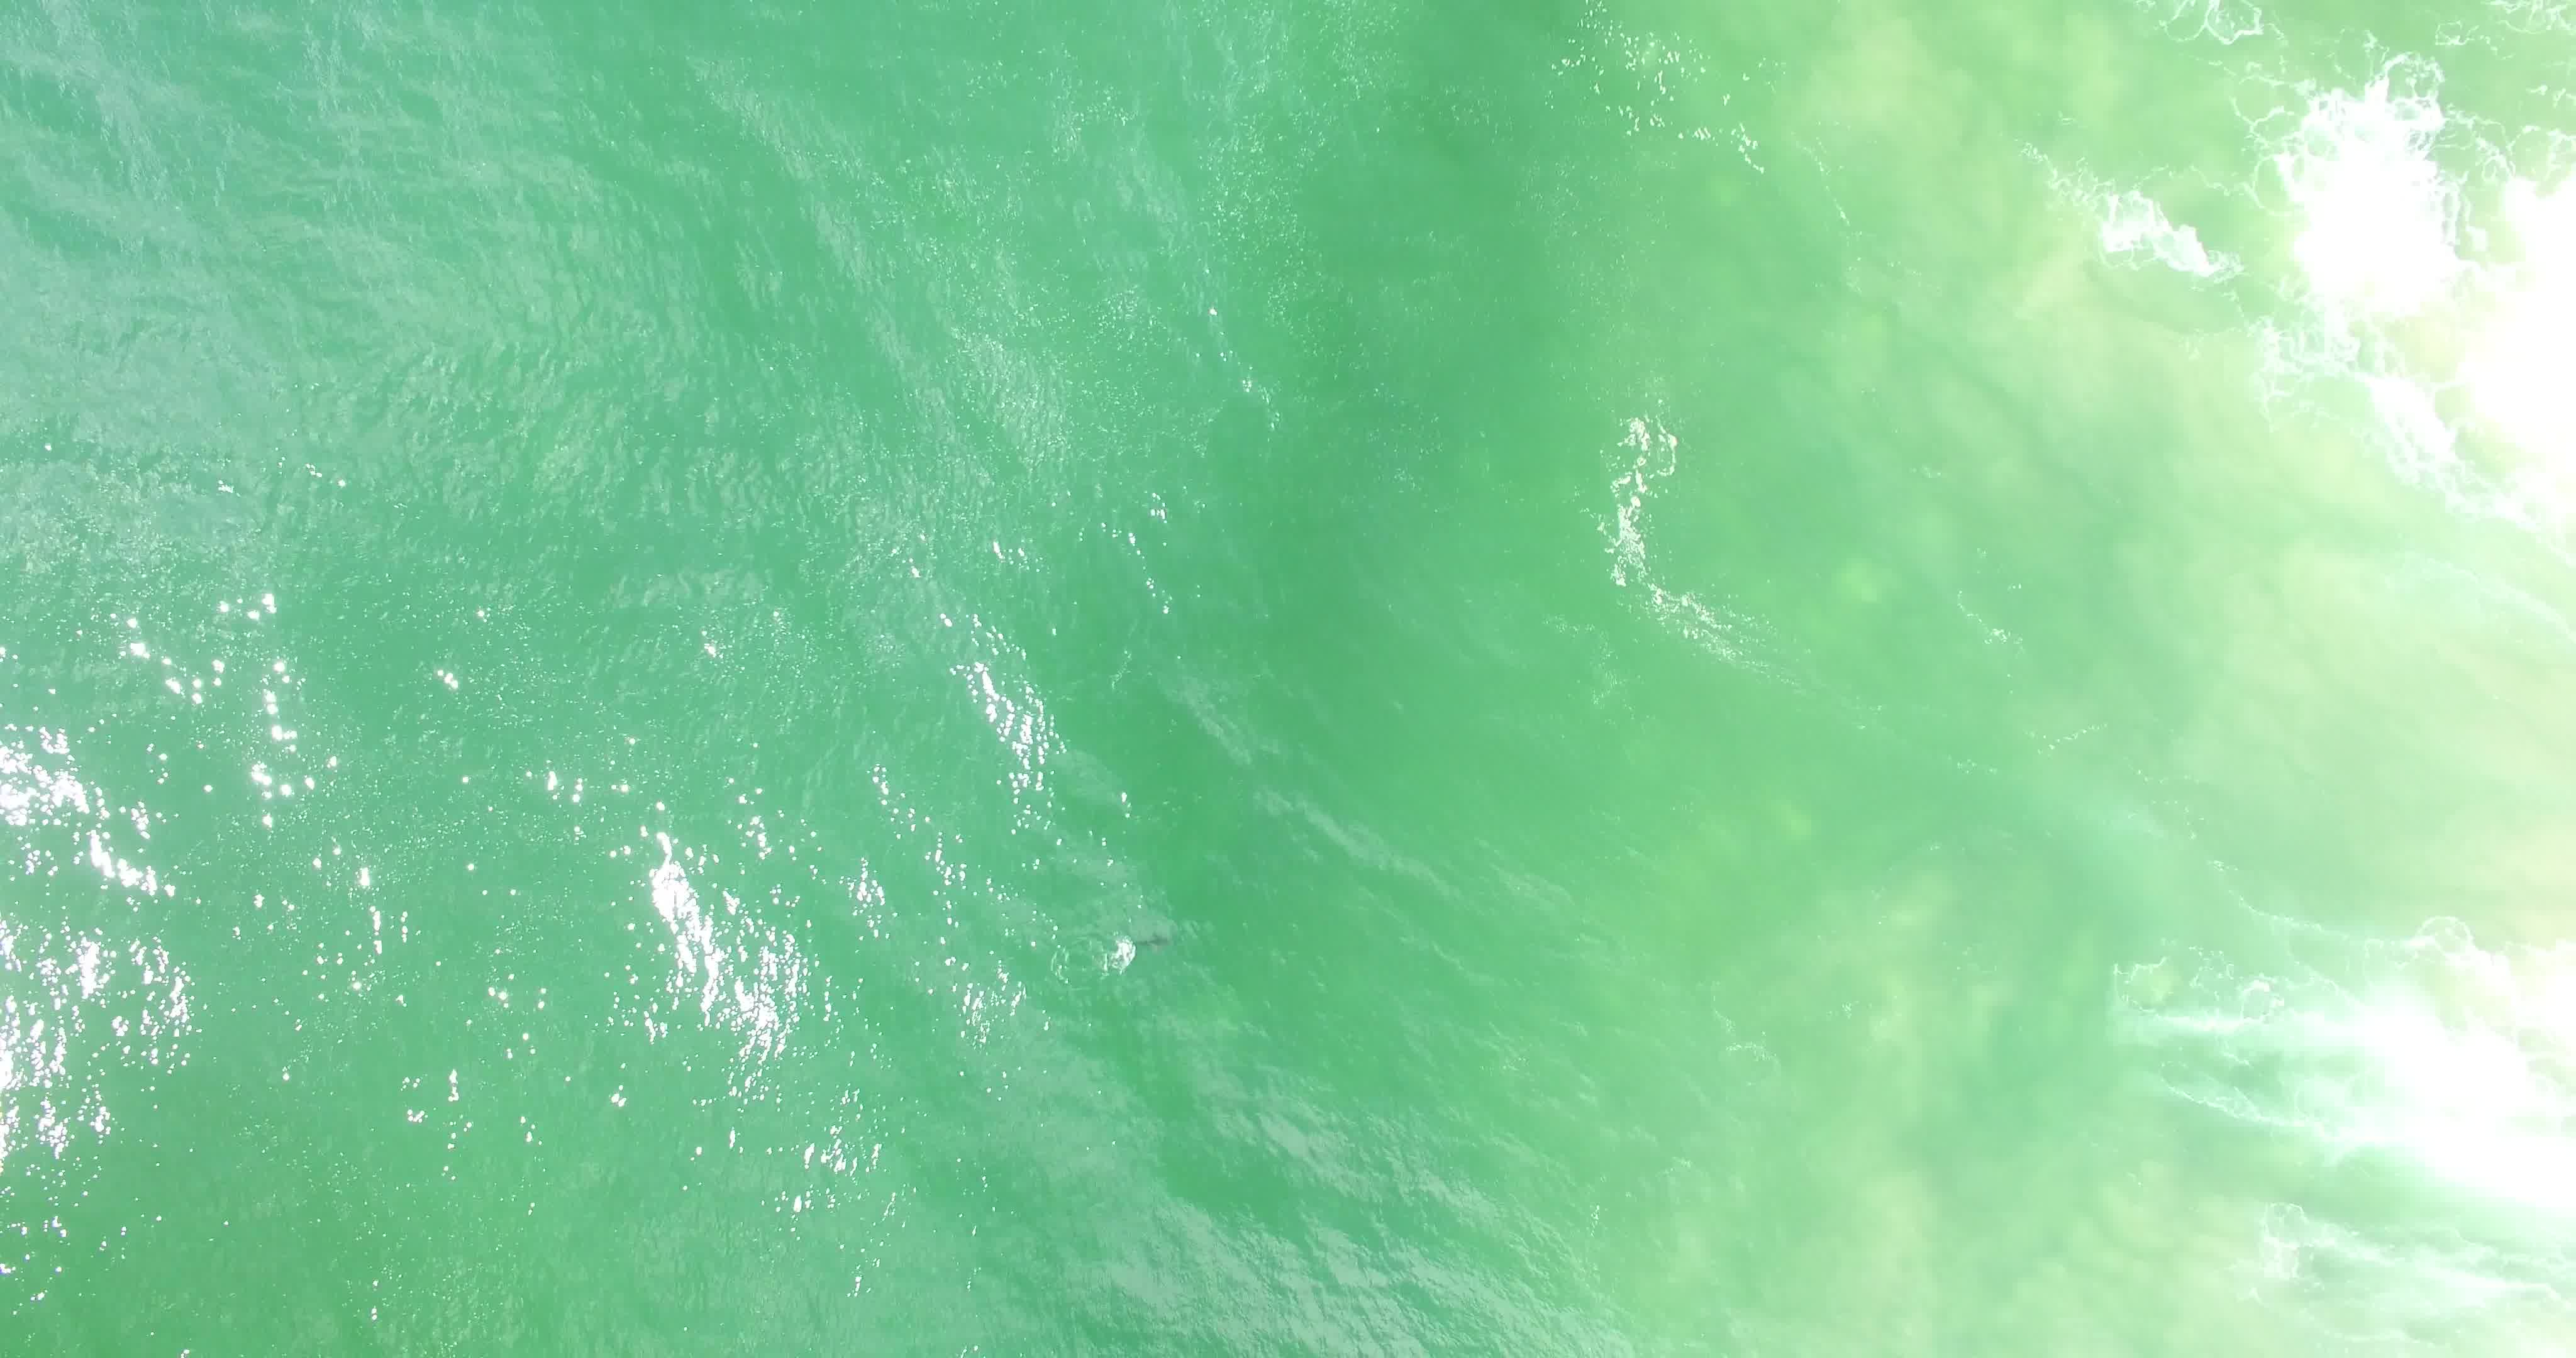dolphin: (1094, 900, 1194, 971)
